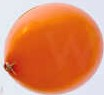Balloon: (4, 3, 104, 95)
